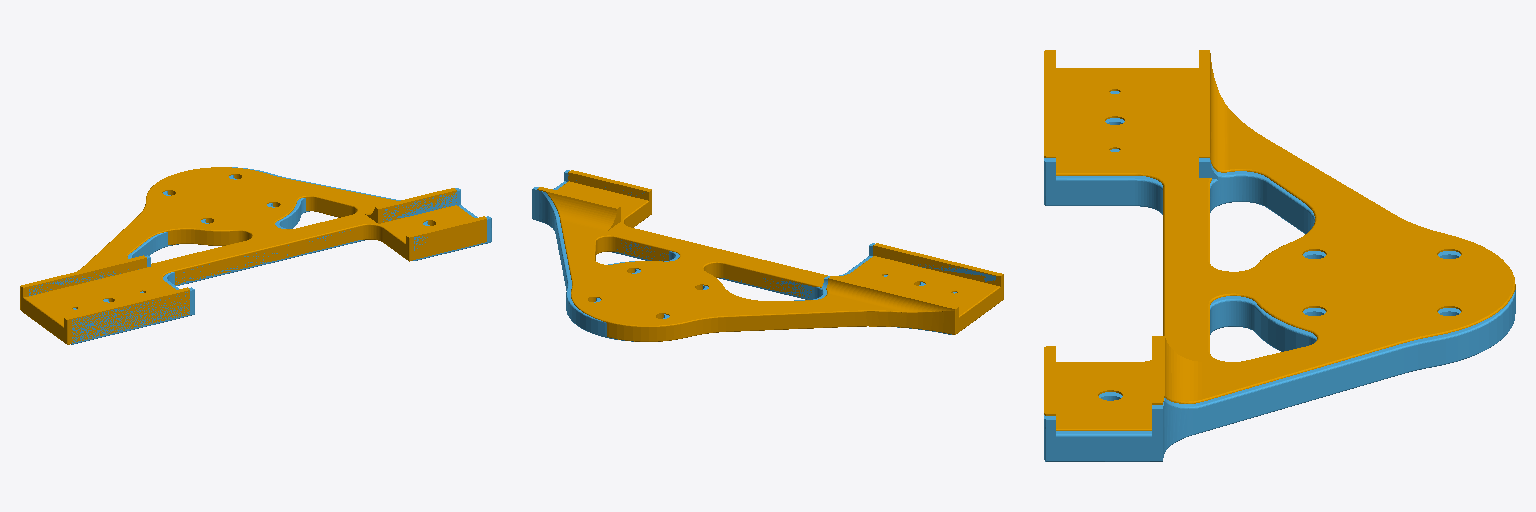
URDF robot description (mira):
<?xml version="1.0"?>
<robot name="mira">
    <link name="base_link">
        <visual>
        <origin rpy="0 0 0" xyz="0 0 0"/>
        <geometry>
            <mesh filename="package://hrii_vo/mesh/cameras_connector.stl" scale="0.001 0.001 0.001"/>

        </geometry>
        </visual>
    </link>
  
    <link name="roll_M1_link">
        <visual>
            <origin rpy="0 0 0" xyz="0 0 0"/>
            <geometry>
                <mesh filename="package://hrii_vo/mesh/cameras_connector.stl" scale="0.001 0.001 0.001"/>
            </geometry>
        </visual>
    </link>
    
    <joint name="roll_joint" type="fixed">
        <parent link="base_link"/>
        <child link="roll_M1_link"/>
        <origin xyz="0.0023 0 -0.0005" rpy="0 0 0"/>
        <limit lower="-0.2" upper="0.2" effort="0.1" velocity="0.005"/>
        <axis xyz="1 0 0"/>
    </joint>
  
</robot>

--- Facts derived from the render (not from the file) ---
Views: 3 orthographic renders of the robot side by side, from view 1: azimuth 30°, elevation 25°; view 2: azimuth 150°, elevation 25°; view 3: azimuth 270°, elevation 25°.
Model mira with 2 links and 1 joints (1 fixed), rooted at base_link, posed all joints at 0.
Links seen in each view (by area): view 1: base_link, roll_M1_link; view 2: base_link, roll_M1_link; view 3: base_link, roll_M1_link.
Link boxes in pixels (x1=…): base_link: x1=20, y1=167, x2=486, y2=344; roll_M1_link: x1=29, y1=167, x2=491, y2=344; base_link: x1=537, y1=170, x2=1003, y2=341; roll_M1_link: x1=532, y1=170, x2=995, y2=341; base_link: x1=1044, y1=50, x2=1515, y2=430; roll_M1_link: x1=1044, y1=91, x2=1515, y2=461.
Bounding box of the posed robot: 0.2268 × 0.1235 × 0.016 m (x, y, z).
Meshes: 1 distinct files referenced, 2 mesh visuals loaded (1 binary STL).
